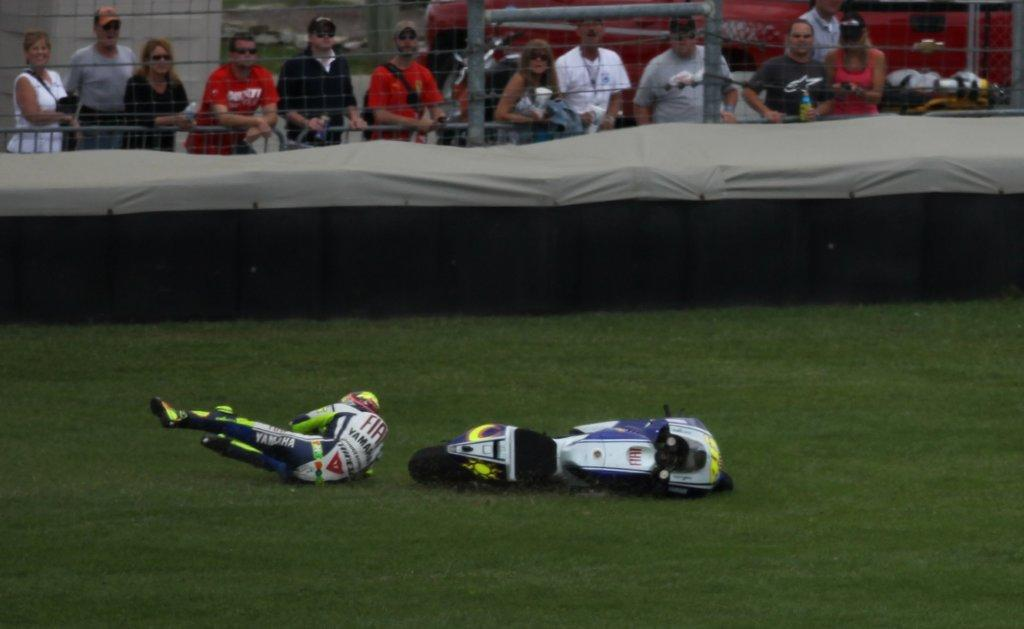nohelmet: (667, 14, 699, 60), (519, 37, 554, 78), (92, 5, 123, 50), (142, 37, 175, 77), (306, 13, 338, 53), (228, 30, 259, 71), (837, 12, 868, 53), (786, 17, 816, 58), (22, 30, 52, 70), (392, 18, 420, 59)
